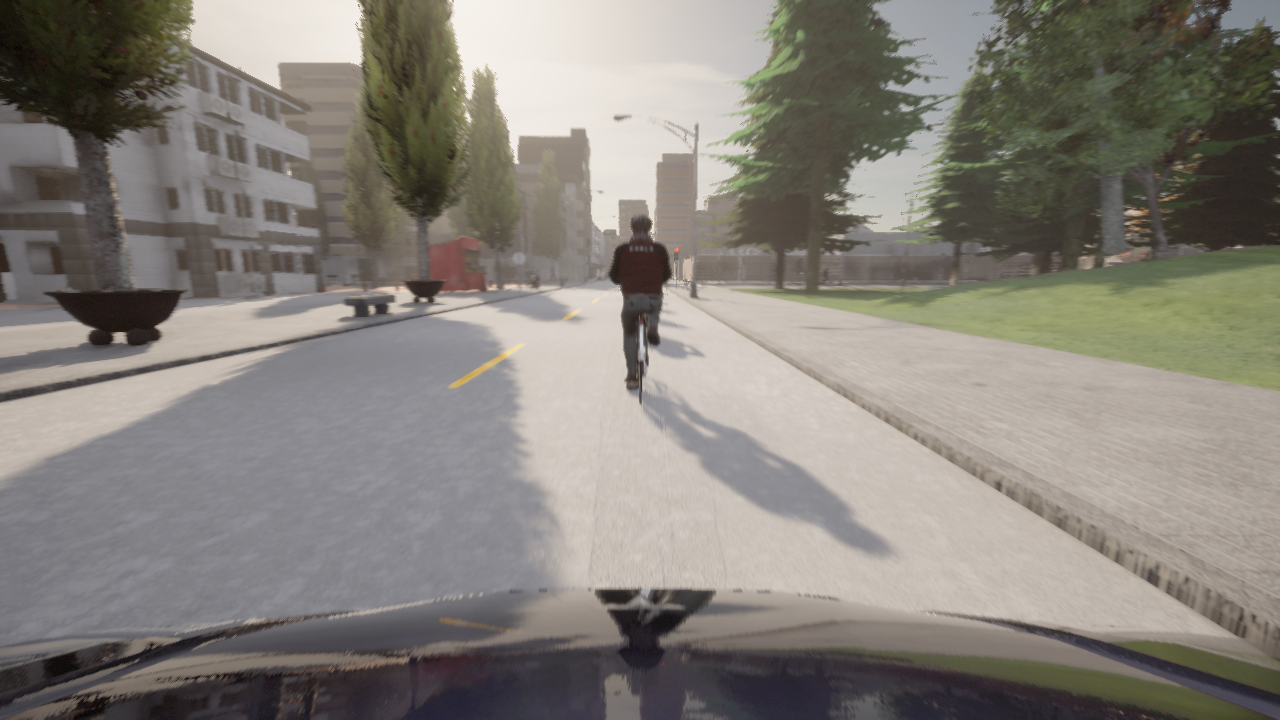cyclist: (0, 588, 1279, 719), (627, 315, 647, 404), (530, 273, 542, 289), (819, 277, 834, 285), (643, 313, 648, 326), (719, 272, 728, 277), (796, 275, 804, 277), (770, 275, 774, 278)
pedestrian: (821, 265, 828, 285), (516, 274, 518, 287)
